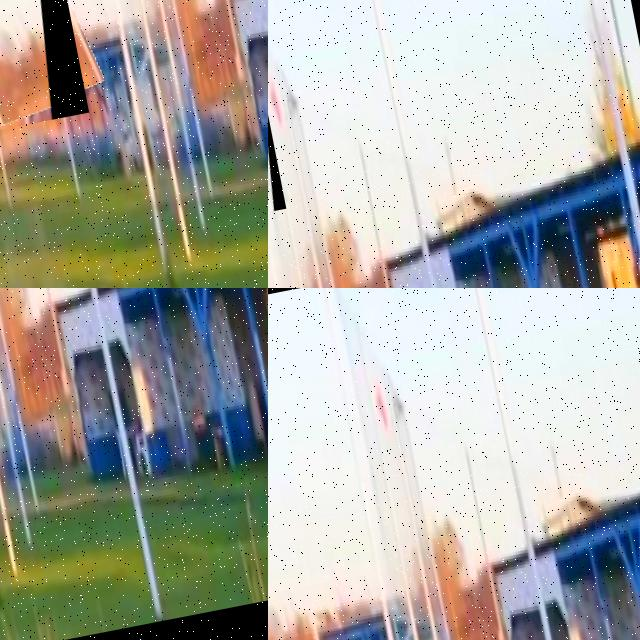drone: (268, 78, 286, 219)
